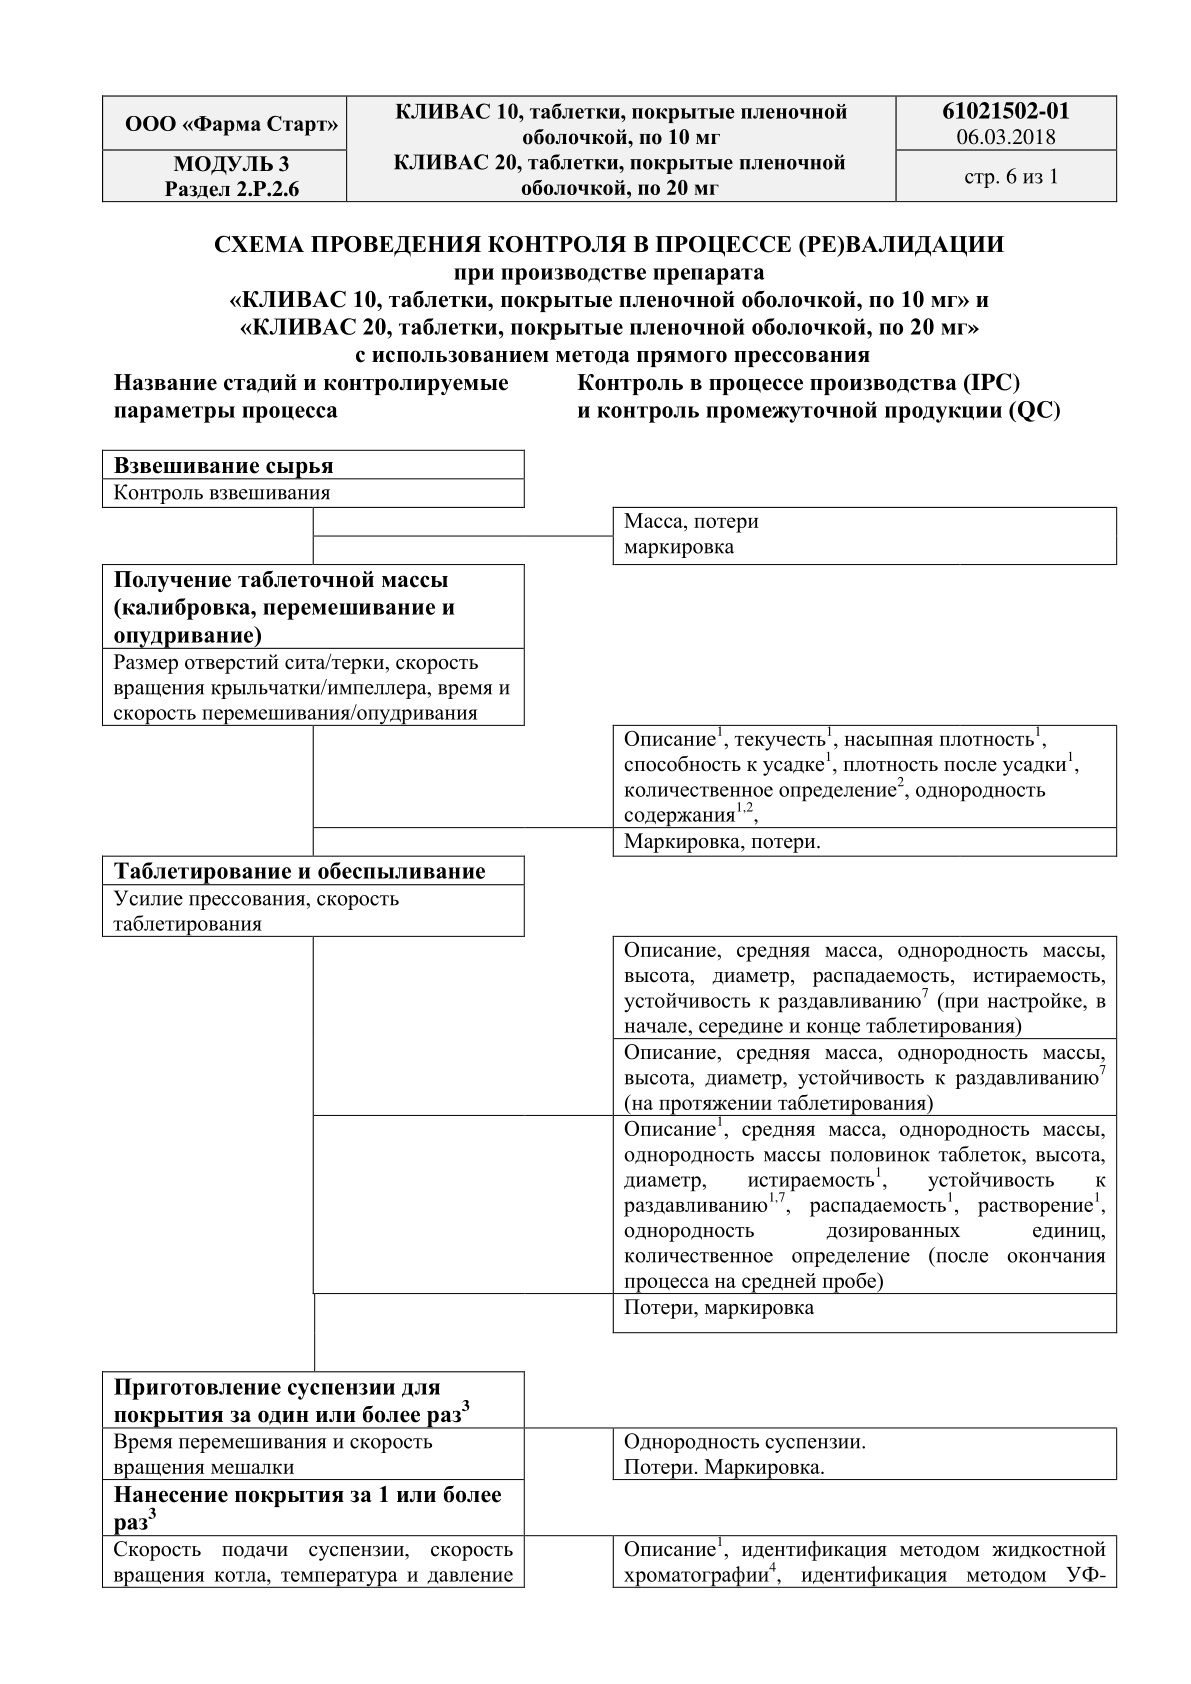merged_cells: (102, 95, 1118, 204)
